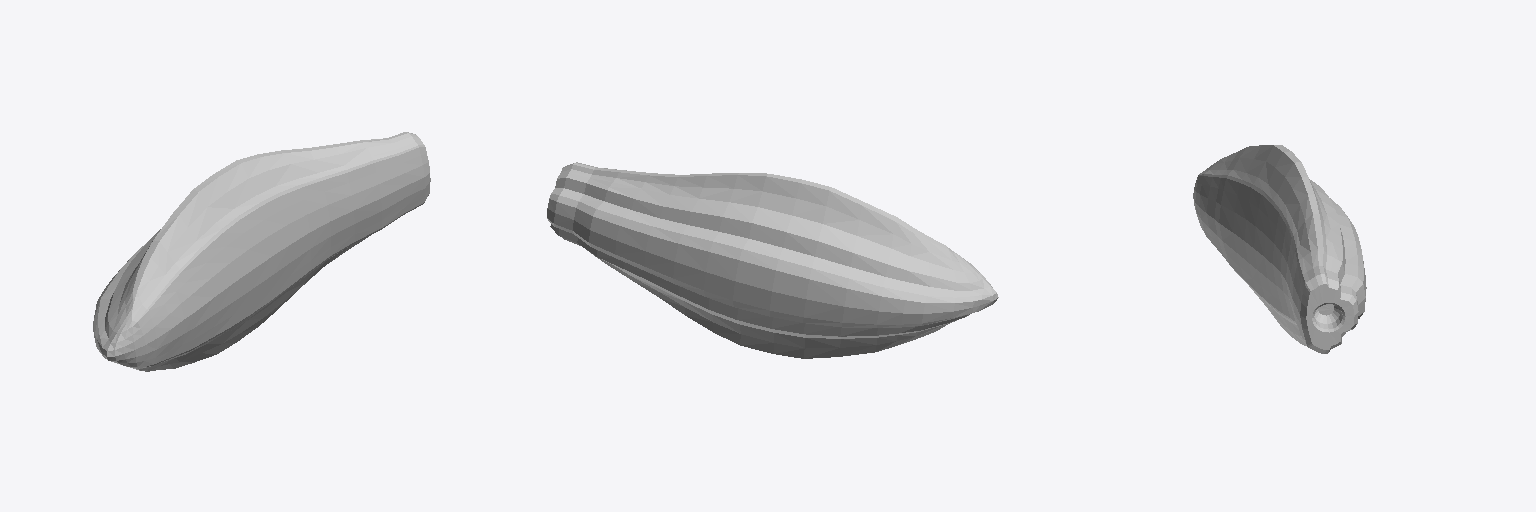
The model's file is TrasIzq.obj.
3 views of the same model, side by side, from view 1: azimuth 30°, elevation 25°; view 2: azimuth 150°, elevation 25°; view 3: azimuth 270°, elevation 25° (orthographic).
Parts seen in each view (by area): view 1: Mosasaurs:polySurface2 Mosasaurs:Mesh; view 2: Mosasaurs:polySurface2 Mosasaurs:Mesh; view 3: Mosasaurs:polySurface2 Mosasaurs:Mesh.
Part boxes in pixels (x1,y1,x2,y2): Mosasaurs:polySurface2 Mosasaurs:Mesh: (93, 132, 430, 371); Mosasaurs:polySurface2 Mosasaurs:Mesh: (547, 162, 998, 358); Mosasaurs:polySurface2 Mosasaurs:Mesh: (1193, 145, 1366, 353).
Size of the model in its own units: 4.82 by 2.18 by 1.9.